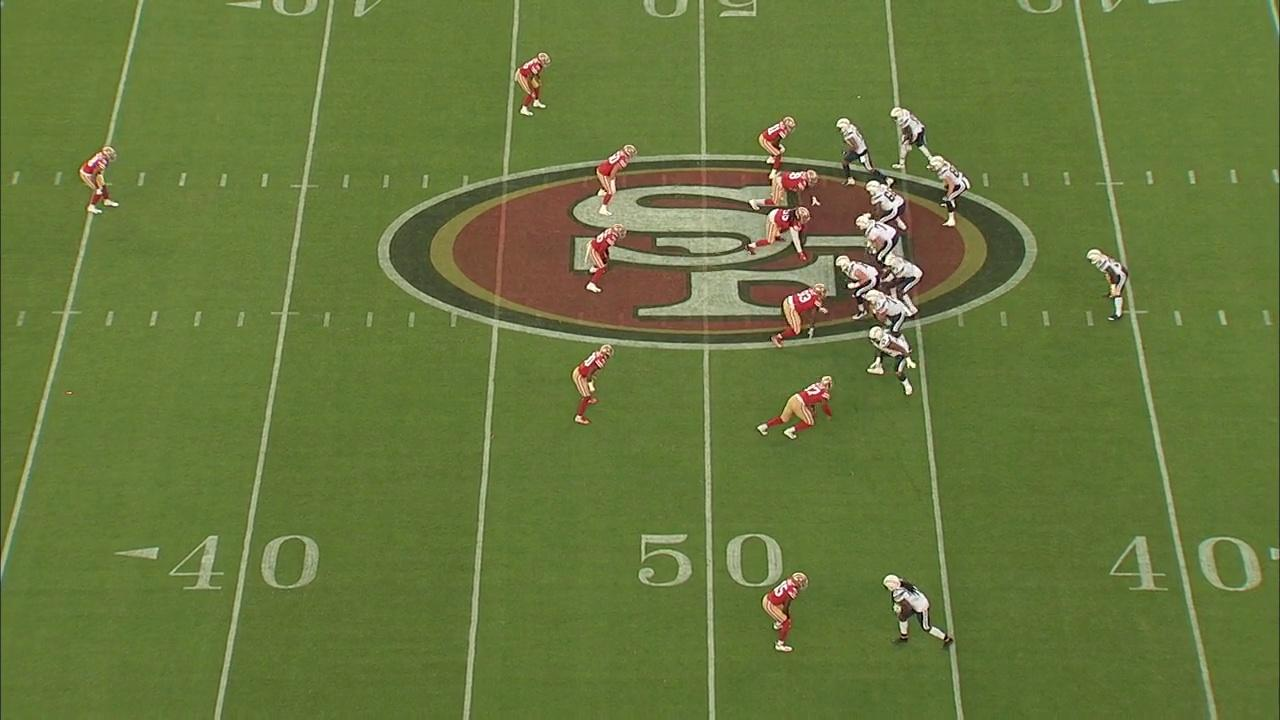defense: (755, 372, 840, 442), (758, 568, 814, 655), (768, 281, 832, 350), (742, 204, 815, 263), (570, 342, 615, 427), (594, 142, 640, 218), (746, 167, 823, 212), (583, 222, 630, 294), (76, 144, 121, 216), (512, 49, 553, 120), (758, 115, 798, 179)
oline: (862, 325, 919, 399), (853, 214, 901, 283), (834, 252, 881, 322), (865, 288, 913, 355), (864, 178, 909, 235)
qb: (877, 252, 927, 317)
skill: (881, 572, 955, 654), (835, 116, 897, 193), (1084, 245, 1132, 324), (927, 154, 972, 230), (889, 105, 938, 172)
